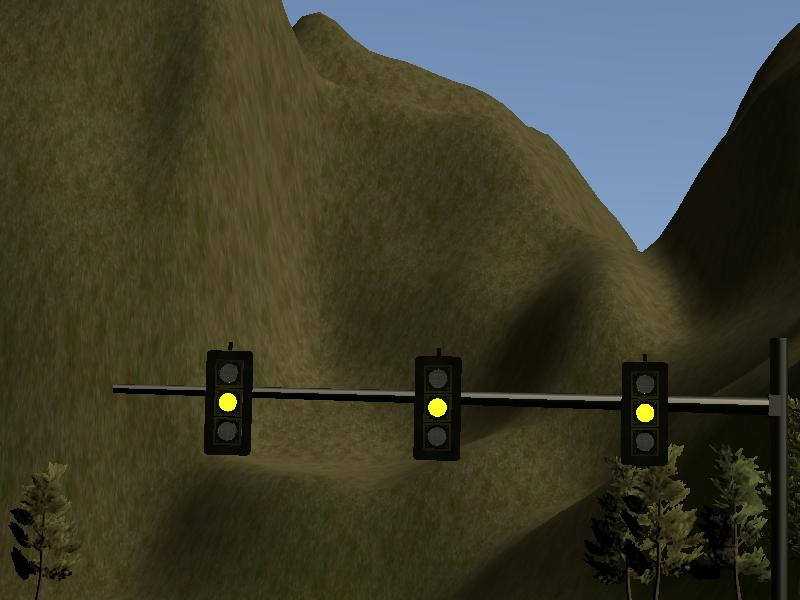yellow: (207, 351, 253, 455), (415, 354, 461, 458), (620, 362, 666, 466)
